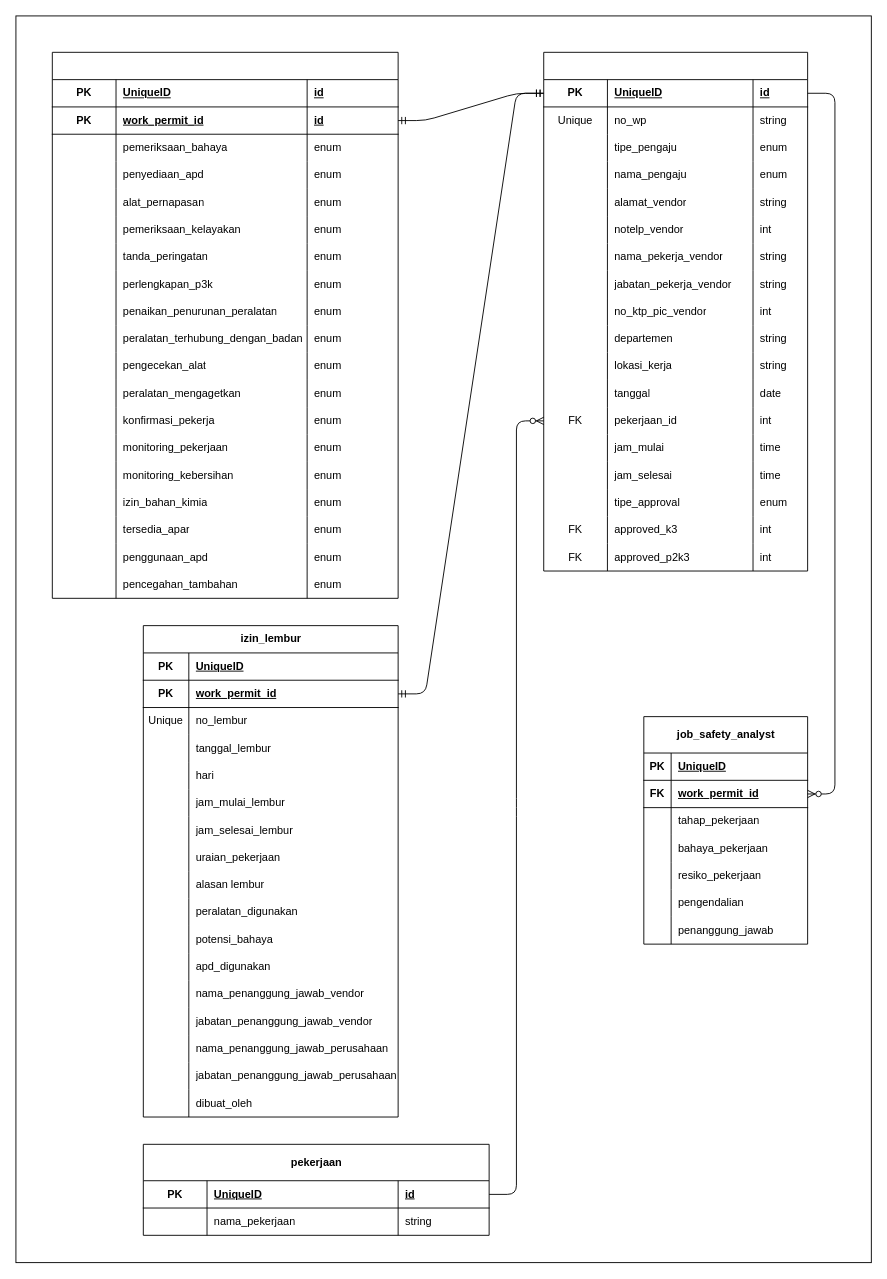
This 887x1279 diagram has some shape labels left out. The box of each missing label's shape, as (x1, y1, x2, y2) in pixels:
checklist_work_permit: (51, 51, 398, 598)
work_permit: (543, 51, 808, 571)
